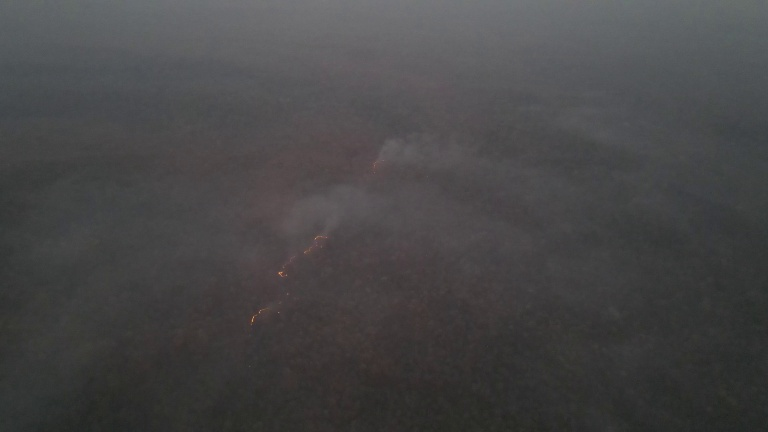fire: (304, 224, 331, 256), (248, 304, 265, 326), (277, 263, 293, 279), (370, 158, 381, 170)
smoke: (293, 188, 395, 229), (379, 132, 441, 170)
